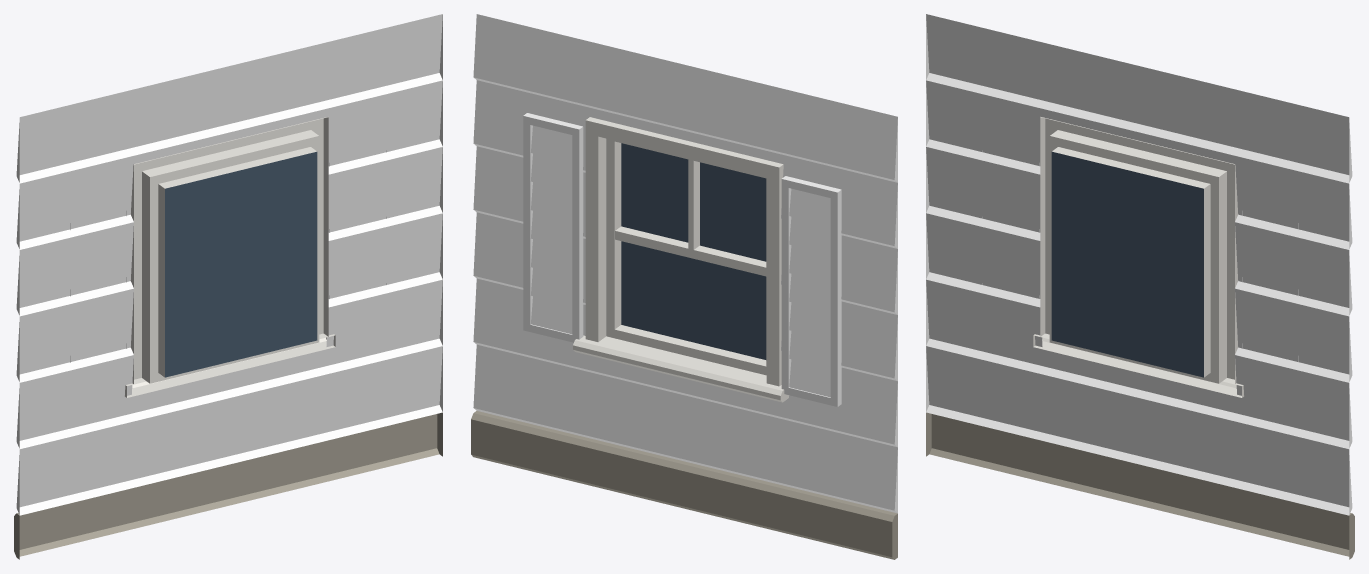
File: house_wall_win.glb
3 renders of one model, left to right at view 1: azimuth 30°, elevation 25°; view 2: azimuth 150°, elevation 25°; view 3: azimuth 330°, elevation 25°, orthographic.
Parts seen in each view (by area): view 1: house_wall_win__mesh; view 2: house_wall_win__mesh; view 3: house_wall_win__mesh.
Boxes of the visible parts, x1,y1,x2,y2 form: house_wall_win__mesh: (14,14,442,559); house_wall_win__mesh: (471,14,897,559); house_wall_win__mesh: (926,14,1354,559).
Size of what is drawn, in the model's own units: 3 by 3 by 0.25.
Materials: 2 (1 with a texture image).
